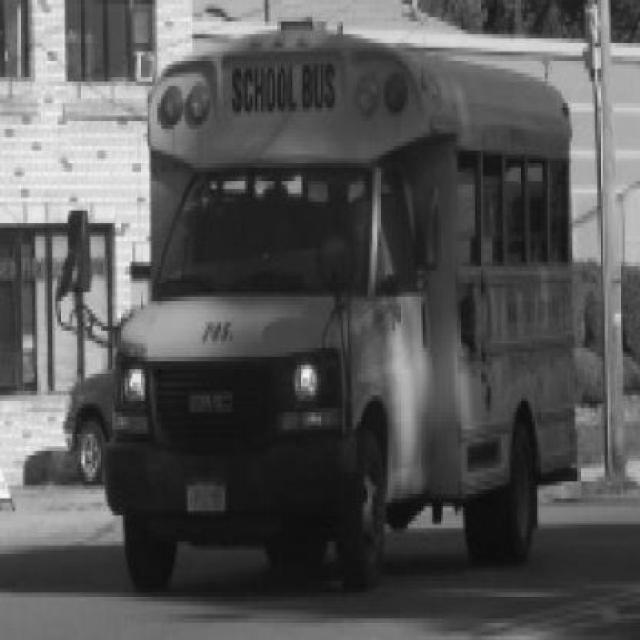Bus- Small: (101, 30, 582, 595)
